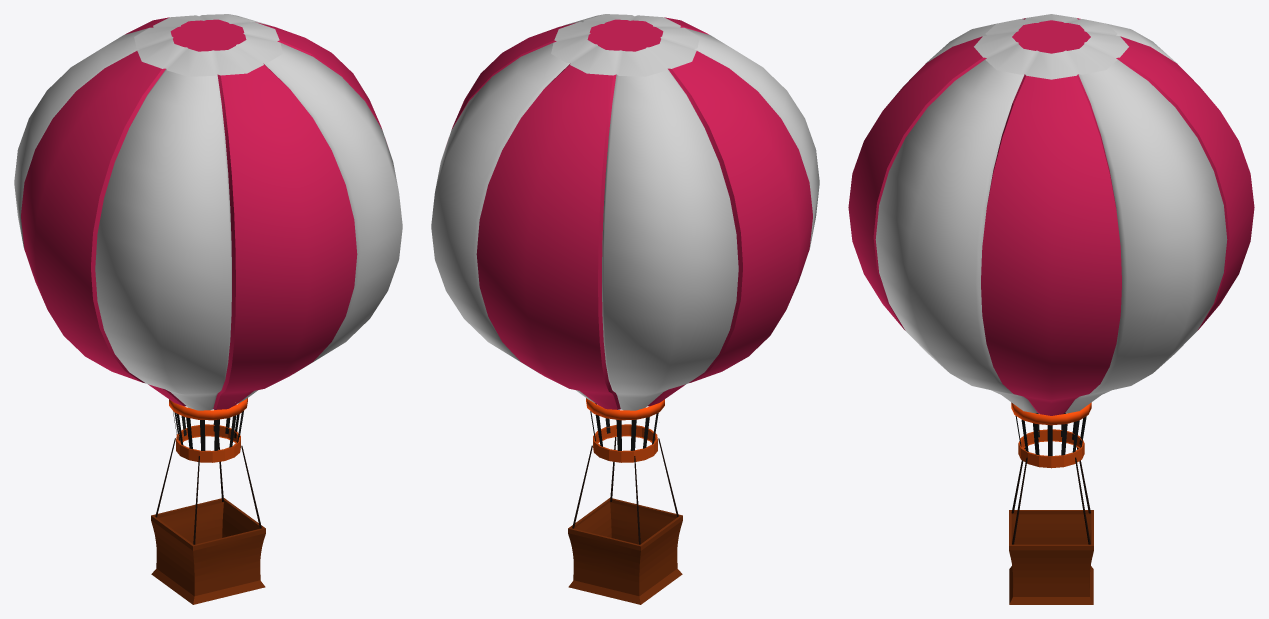
The model's file is Hot_Air_Balloon4.fbx.
The picture shows the model from 3 angles, left to right: view 1: azimuth 30°, elevation 25°; view 2: azimuth 150°, elevation 25°; view 3: azimuth 270°, elevation 25°; orthographic projection.
Visible parts, largest first — view 1: Object003, Object004, Object002, Object005; view 2: Object003, Object004, Object002, Object005; view 3: Object004, Object005, Object003, Object002.
Boxes of the visible parts, bbox=[...] form: Object003: bbox=[14, 17, 308, 346]; Object004: bbox=[171, 14, 402, 338]; Object002: bbox=[48, 310, 300, 604]; Object005: bbox=[187, 291, 387, 595]; Object003: bbox=[525, 17, 819, 346]; Object004: bbox=[431, 14, 662, 338]; Object002: bbox=[533, 310, 785, 604]; Object005: bbox=[446, 291, 646, 595]; Object004: bbox=[848, 37, 1254, 353]; Object005: bbox=[864, 274, 1238, 604]; Object003: bbox=[884, 14, 1218, 108]; Object002: bbox=[1009, 413, 1093, 586].
Bounding box in the file's own units: 21.16 × 31.63 × 21.16.
